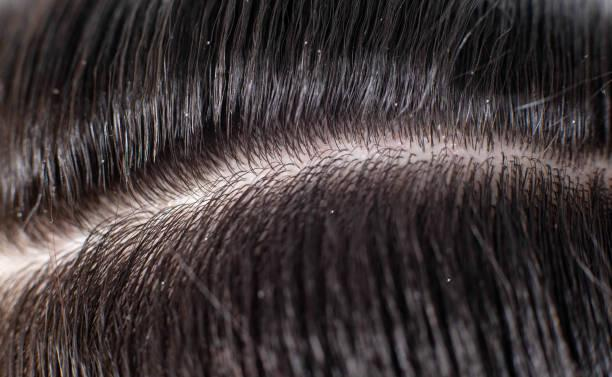dandruff: (549, 217, 565, 236), (201, 34, 217, 53), (440, 273, 462, 286), (466, 64, 482, 80), (387, 93, 403, 109), (476, 93, 494, 107), (323, 203, 337, 219), (299, 35, 314, 48), (97, 155, 108, 169), (376, 15, 389, 24)
